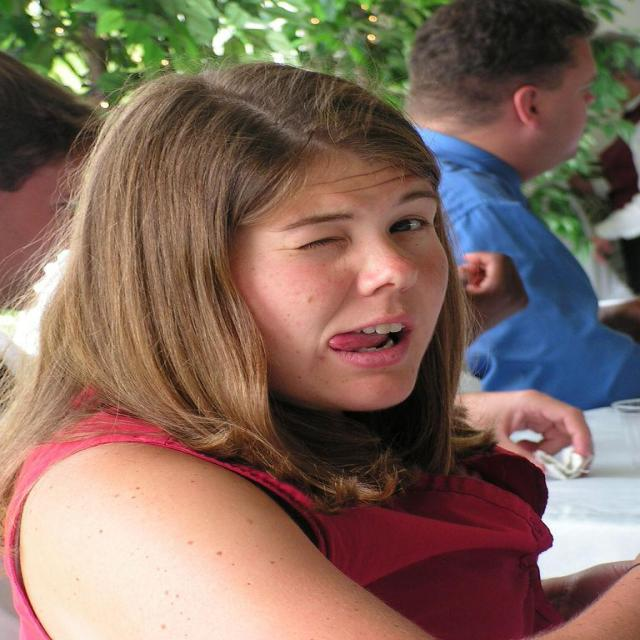no-glass: (289, 208, 444, 254)
